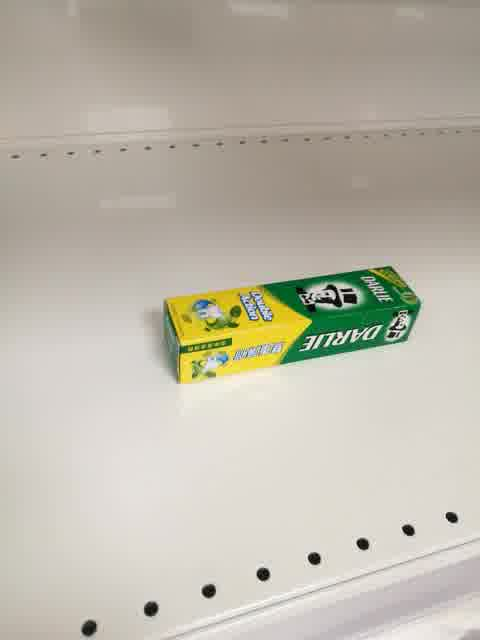toothpaste: (163, 267, 423, 385)
